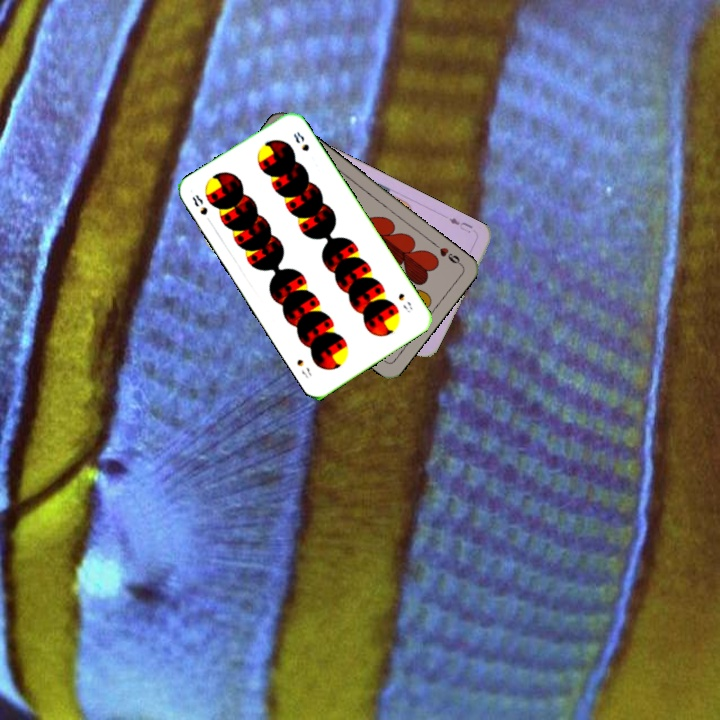EU: (445, 213, 475, 235)
H9: (430, 239, 464, 268)
S8: (188, 190, 210, 218), (394, 289, 415, 315)
